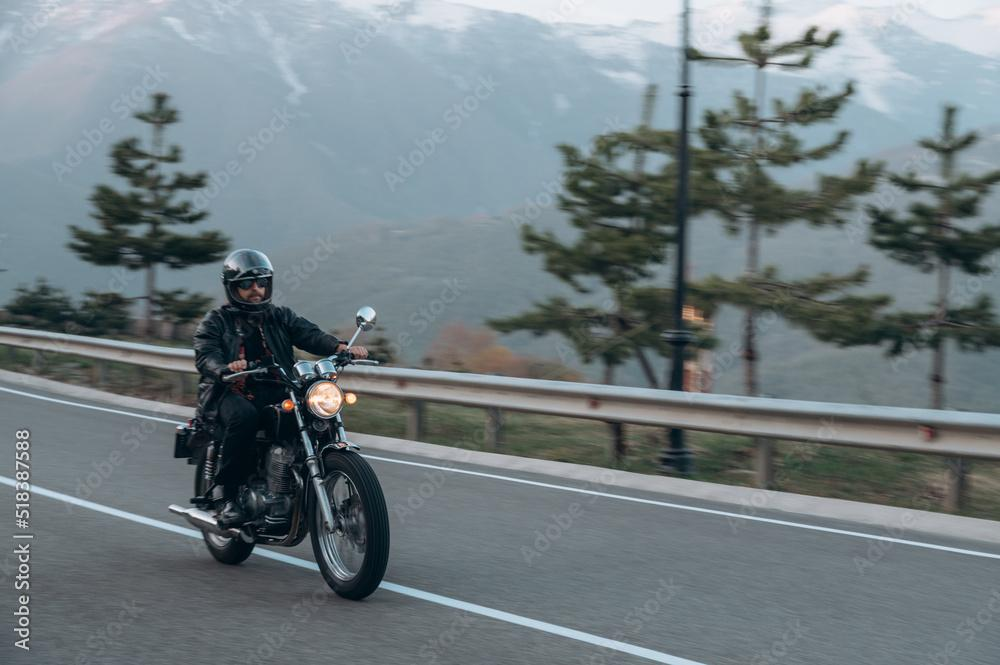helmet: (220, 248, 275, 313)
